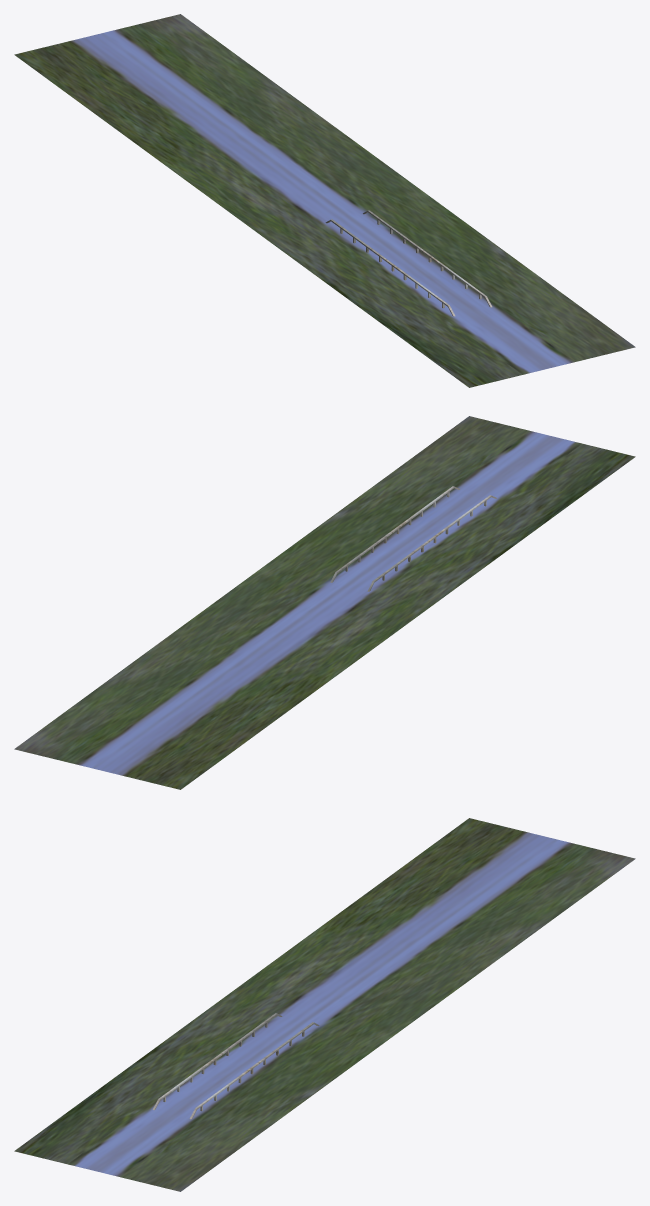
Rendered from Mdl_Floor_and_Rails.fbx.
3 renders of one model, top to bottom at view 1: azimuth 30°, elevation 25°; view 2: azimuth 150°, elevation 25°; view 3: azimuth 330°, elevation 25°, orthographic.
Parts seen in each view (by area): view 1: FLOOR, RAIL, RAIL2; view 2: FLOOR, RAIL, RAIL2; view 3: FLOOR, RAIL, RAIL2.
Boxes of the visible parts, x1,y1,x2,y2 form: FLOOR: (14, 14, 635, 387); RAIL: (363, 210, 492, 307); RAIL2: (325, 219, 455, 316); FLOOR: (14, 416, 635, 789); RAIL: (330, 486, 459, 582); RAIL2: (367, 495, 496, 591); FLOOR: (14, 818, 635, 1191); RAIL: (189, 1022, 319, 1119); RAIL2: (152, 1013, 282, 1110).
Bounding box in the file's own units: 46.04 × 1.89 × 218.
